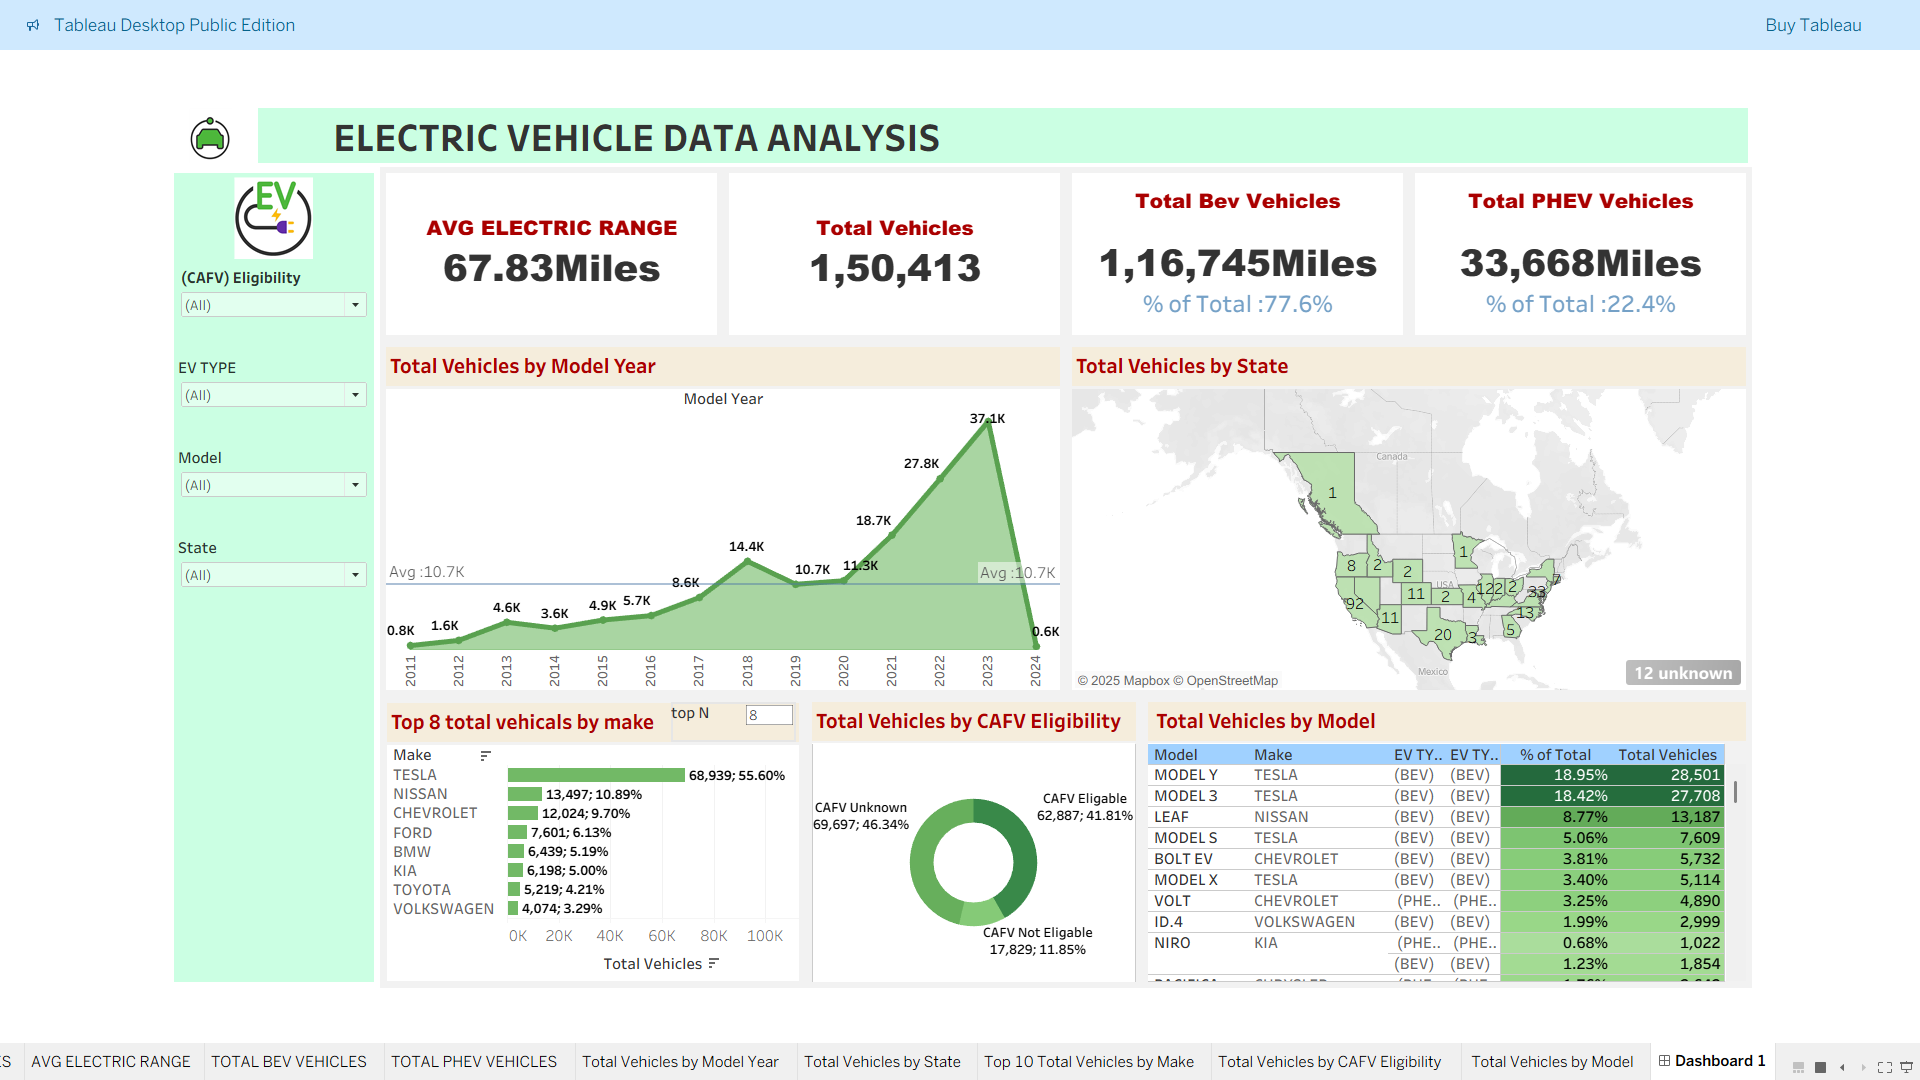

Layout of this report page (visuals, bound fields, positions):
{"tool":"tableau","page":{"name":"Dashboard 1","canvas":[1600,900],"ordinal":0},"visuals":[{"type":"image","param":"C:/Users/moham/Downloads/WhatsApp Image 2025-08-29 at 20.41.38_40b5d25b.jpg","box":[8,8,86,63]},{"type":"title","box":[94,8,1498,63]},{"type":"worksheet","title":"AVG ELECTRIC RANGE","mark":"Automatic","box":[220,71,343,174]},{"type":"worksheet","title":"TOTAL VEHICLES","mark":"Automatic","box":[563,71,343,174]},{"type":"worksheet","title":"TOTAL BEV VEHICLES ","mark":"Automatic","box":[906,71,343,174]},{"type":"worksheet","title":"TOTAL PHEV VEHICLES ","mark":"Automatic","box":[1249,71,343,174]},{"type":"image","param":"C:/Users/moham/Downloads/evv.jpg","box":[14,77,200,90]},{"type":"filter","title":"Total Vehicles by Model Year","param":"[federated.10633c61pc3rj814vorqt1rckze5].[none:Clean Alternative Fuel Vehicle (C","box":[14,167,200,90]},{"type":"worksheet","title":"Total Vehicles by Model Year","mark":"Area","rows":["Calculation_617556146290167808","Calculation_617556146290167808"],"cols":["Model Year"],"box":[220,245,686,355]},{"type":"worksheet","title":"Total Vehicles by State","mark":"Automatic","box":[906,245,686,355]},{"type":"filter","title":"Total Vehicles by Model Year","param":"[federated.10633c61pc3rj814vorqt1rckze5].[none:Electric Vehicle Type:nk]","box":[14,257,200,90]},{"type":"filter","title":"Total Vehicles by Model Year","param":"[federated.10633c61pc3rj814vorqt1rckze5].[none:Model:nk]","box":[14,347,200,90]},{"type":"filter","title":"Total Vehicles by Model Year","param":"[federated.10633c61pc3rj814vorqt1rckze5].[none:State:nk]","box":[14,437,200,90]},{"type":"blank","box":[14,527,200,90]},{"type":"worksheet","title":"Top 10 Total Vehicles by Make","mark":"Automatic","rows":["Make"],"cols":["Calculation_617556146290167808"],"box":[220,600,426,292]},{"type":"worksheet","title":"Total Vehicles by CAFV Eligibility","mark":"Pie","rows":["Calculation_1249748944296546305","Calculation_1249748944296546305"],"box":[646,600,336,292]},{"type":"worksheet","title":" Total Vehicles by Model","mark":"Square","rows":["Model","Make","Electric Vehicle Type","Electric Vehicle Type"],"box":[982,600,610,292]},{"type":"parameter","param":"[Parameters].[Parameter 1]","box":[511,606,125,40]},{"type":"blank","box":[14,617,200,90]},{"type":"blank","box":[14,707,200,90]},{"type":"blank","box":[14,797,200,89]}]}

Visuals, with their boxes on the page's 1600x900 design canvas (x1, y1, x2, y2). These are canvas units, not pixel positions in the 1920x1080 screenshot, which may show the page scaled, cropped or inside an application window:
image: locate(8, 8, 94, 71)
title: locate(94, 8, 1592, 71)
"AVG ELECTRIC RANGE" worksheet: locate(220, 71, 563, 245)
"TOTAL VEHICLES" worksheet: locate(563, 71, 906, 245)
"TOTAL BEV VEHICLES " worksheet: locate(906, 71, 1249, 245)
"TOTAL PHEV VEHICLES " worksheet: locate(1249, 71, 1592, 245)
image: locate(14, 77, 214, 167)
"Total Vehicles by Model Year" filter: locate(14, 167, 214, 257)
"Total Vehicles by Model Year" worksheet (Area marks): locate(220, 245, 906, 600)
"Total Vehicles by State" worksheet: locate(906, 245, 1592, 600)
"Total Vehicles by Model Year" filter: locate(14, 257, 214, 347)
"Total Vehicles by Model Year" filter: locate(14, 347, 214, 437)
"Total Vehicles by Model Year" filter: locate(14, 437, 214, 527)
blank: locate(14, 527, 214, 617)
"Top 10 Total Vehicles by Make" worksheet: locate(220, 600, 646, 892)
"Total Vehicles by CAFV Eligibility" worksheet (Pie marks): locate(646, 600, 982, 892)
" Total Vehicles by Model" worksheet (Square marks): locate(982, 600, 1592, 892)
parameter: locate(511, 606, 636, 646)
blank: locate(14, 617, 214, 707)
blank: locate(14, 707, 214, 797)
blank: locate(14, 797, 214, 886)
